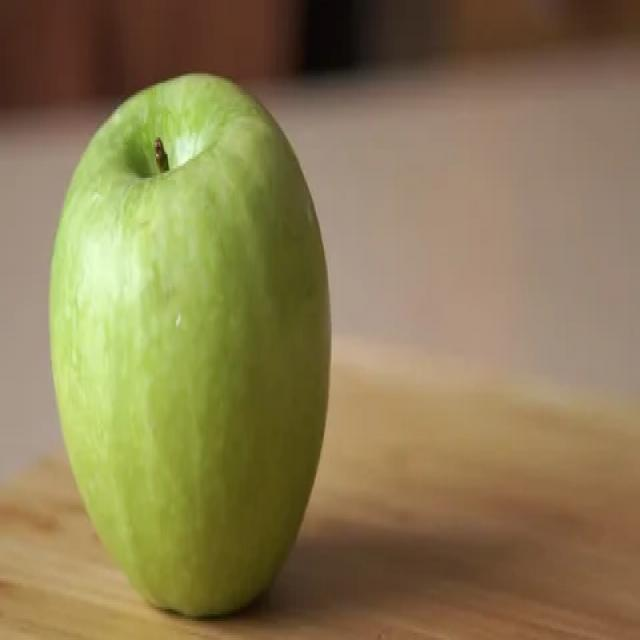Apple: (48, 73, 332, 623)
